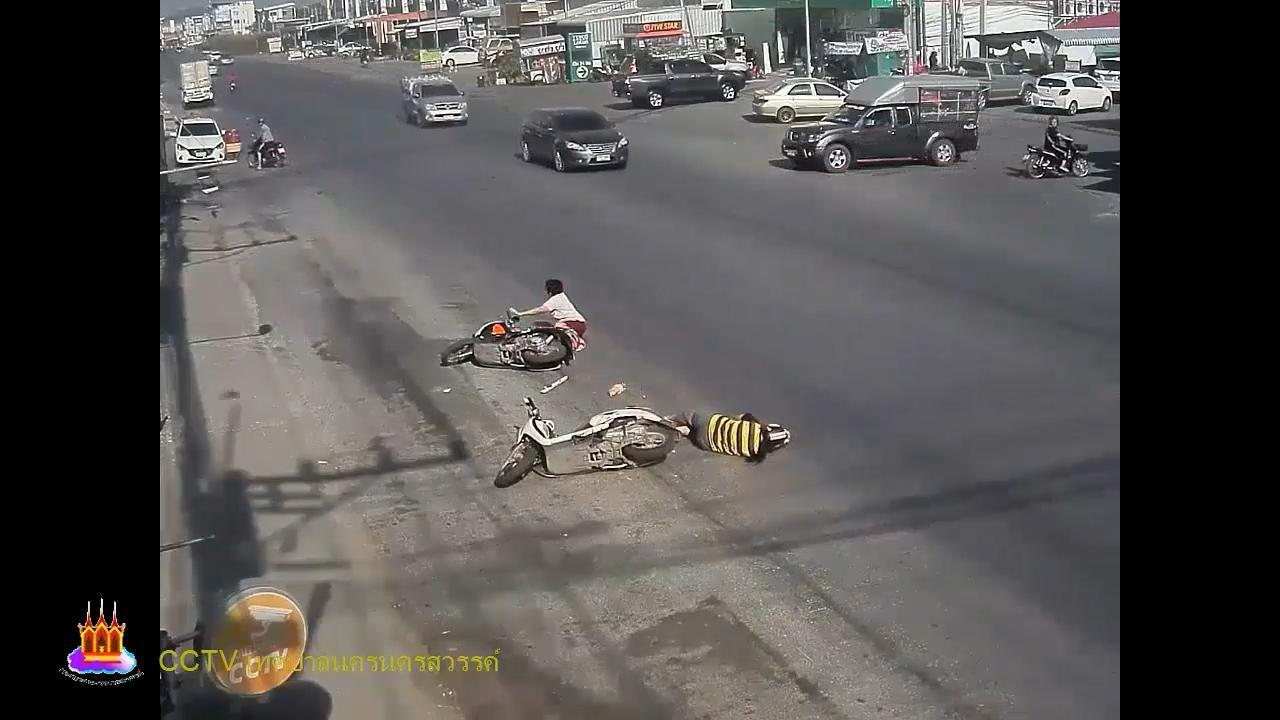accident: (659, 404, 797, 466), (514, 277, 590, 353)
